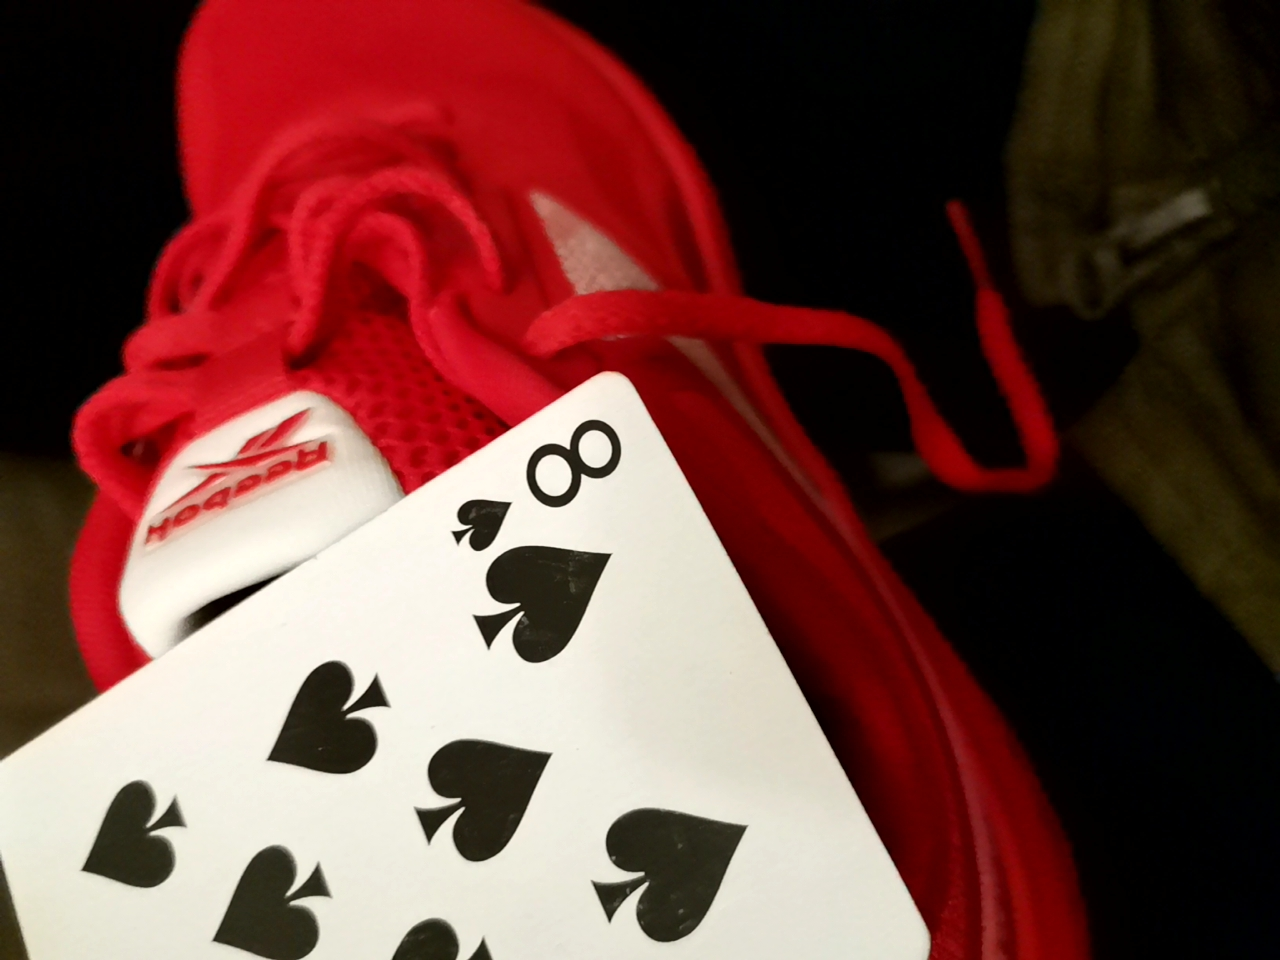ht 8: (5, 392, 1003, 955)
